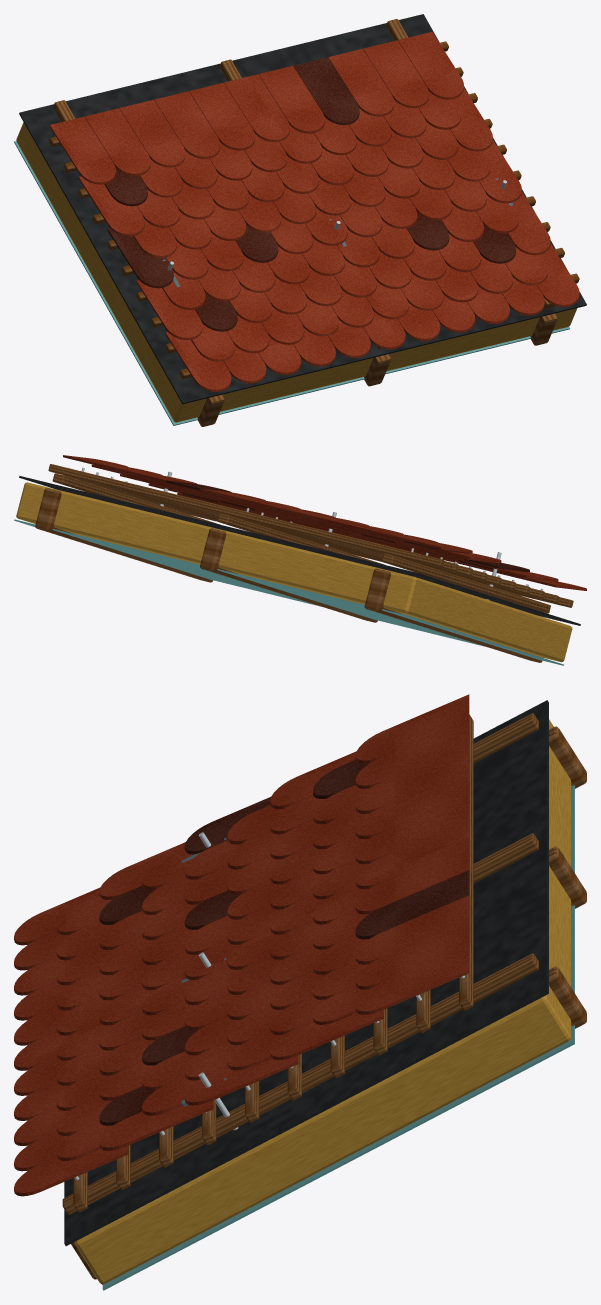
Rendered from modell.glb.
The picture shows the model from 3 angles, top to bottom: view 1: azimuth 30°, elevation 25°; view 2: azimuth 150°, elevation 25°; view 3: azimuth 270°, elevation 25°; orthographic projection. The views are drawn at different scales.
Parts seen in each view (by area): view 1: g05-deckziegel_deckung, g05-zusatzebene_zusatzebene, g05-daemmung_daemmung, g05-deckziegel_deckung.001, g05-lattung_lattung, g05-luftdichtheit_luftdichtheit, g05-sparren_tragwerk; view 2: g05-daemmung_daemmung, g05-lattung_lattung, g05-deckziegel_deckung, g05-sparren_tragwerk, g05-luftdichtheit_luftdichtheit, g05-zusatzebene_zusatzebene, g05-deckziegel_deckung.001; view 3: g05-deckziegel_deckung, g05-zusatzebene_zusatzebene, g05-daemmung_daemmung, g05-lattung_lattung, g05-deckziegel_deckung.001, g05-luftdichtheit_luftdichtheit, g05-sparren_tragwerk.
Boxes of the visible parts, x1=… form: g05-deckziegel_deckung: x1=50, y1=32, x2=579, y2=391; g05-zusatzebene_zusatzebene: x1=19, y1=14, x2=586, y2=404; g05-daemmung_daemmung: x1=16, y1=122, x2=577, y2=422; g05-deckziegel_deckung.001: x1=104, y1=57, x2=515, y2=331; g05-lattung_lattung: x1=49, y1=19, x2=579, y2=379; g05-luftdichtheit_luftdichtheit: x1=14, y1=141, x2=569, y2=425; g05-sparren_tragwerk: x1=197, y1=313, x2=557, y2=426; g05-daemmung_daemmung: x1=16, y1=482, x2=572, y2=662; g05-lattung_lattung: x1=48, y1=464, x2=573, y2=613; g05-deckziegel_deckung: x1=63, y1=455, x2=586, y2=590; g05-sparren_tragwerk: x1=35, y1=488, x2=542, y2=662; g05-luftdichtheit_luftdichtheit: x1=14, y1=519, x2=563, y2=665; g05-zusatzebene_zusatzebene: x1=19, y1=476, x2=580, y2=625; g05-deckziegel_deckung.001: x1=166, y1=480, x2=529, y2=571; g05-deckziegel_deckung: x1=14, y1=694, x2=469, y2=1196; g05-zusatzebene_zusatzebene: x1=64, y1=700, x2=548, y2=1246; g05-daemmung_daemmung: x1=75, y1=719, x2=571, y2=1284; g05-lattung_lattung: x1=62, y1=713, x2=538, y2=1214; g05-deckziegel_deckung.001: x1=99, y1=759, x2=469, y2=1125; g05-luftdichtheit_luftdichtheit: x1=102, y1=785, x2=574, y2=1290; g05-sparren_tragwerk: x1=71, y1=726, x2=586, y2=1279.
Bounding box in the file's own units: 2.09 × 1.07 × 1.74.
Materials: 8 (5 with a texture image).
